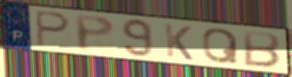9: (120, 17, 155, 59)
B: (242, 29, 283, 70)
K: (163, 22, 195, 62)
P: (73, 13, 117, 53), (33, 9, 72, 48)
Q: (201, 27, 241, 65)
